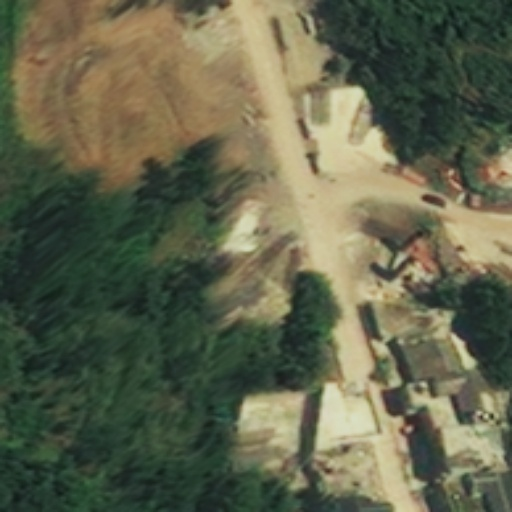landslide: (15, 4, 251, 188)
